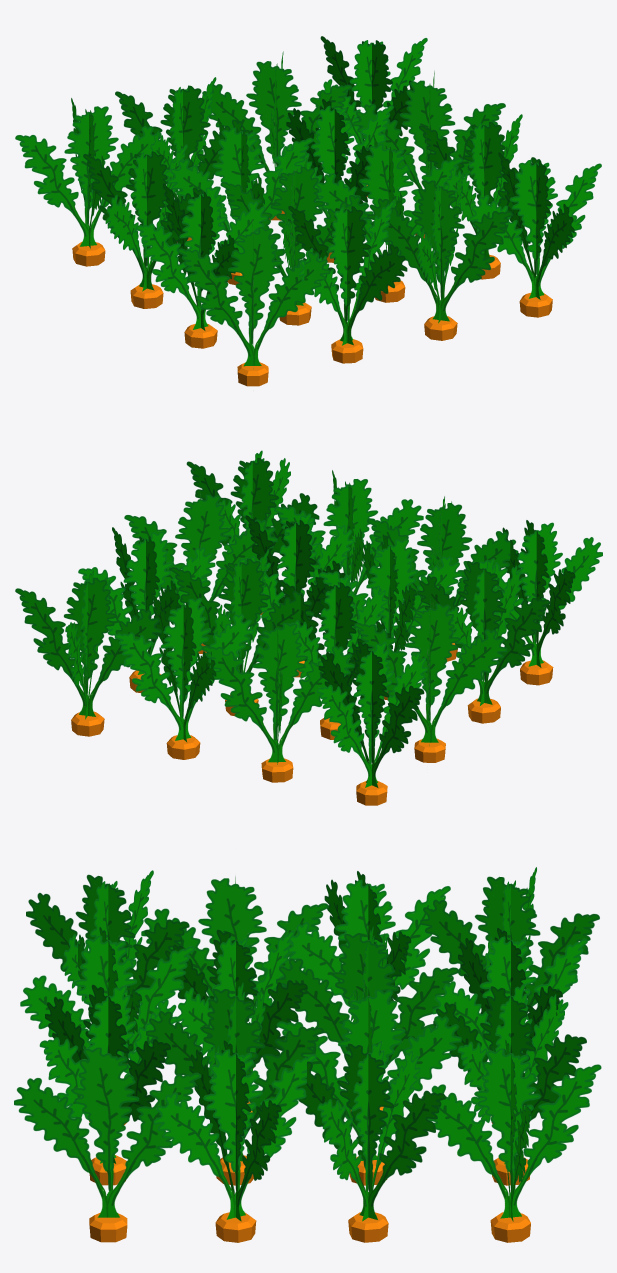
File: carrot_2.glb
3 renders of one model, top to bottom at view 1: azimuth 30°, elevation 25°; view 2: azimuth 150°, elevation 25°; view 3: azimuth 270°, elevation 25°, orthographic. The views are drawn at different scales.
Visible parts, largest first — view 1: Carrot_F3; view 2: Carrot_F3; view 3: Carrot_F3.
Part boxes in pixels (left/top/right/bottom): Carrot_F3: left=15, top=36, right=601, bottom=386; Carrot_F3: left=15, top=450, right=602, bottom=805; Carrot_F3: left=14, top=867, right=601, bottom=1242.
Size of the model in its own units: 2.4 by 0.8395 by 2.39.
1 material, 1 textured.
